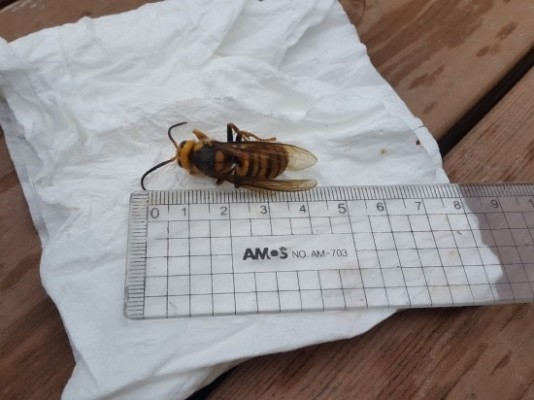asian_giant_hornet: (140, 119, 318, 195)
